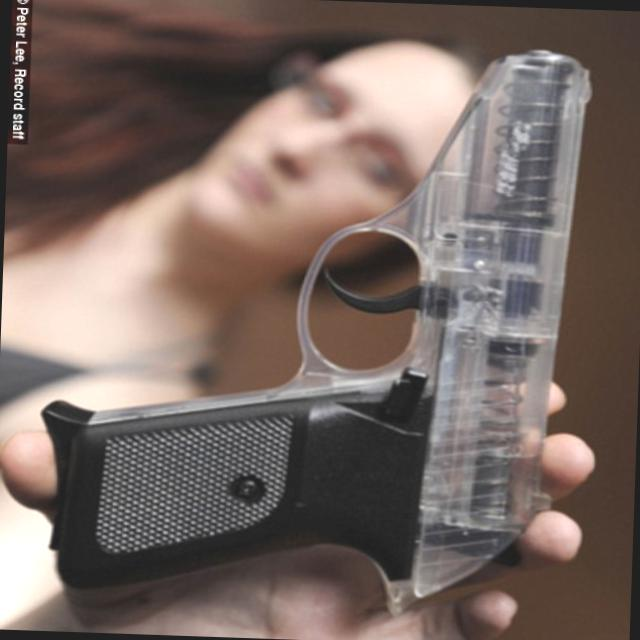handgun: (33, 27, 596, 626)
